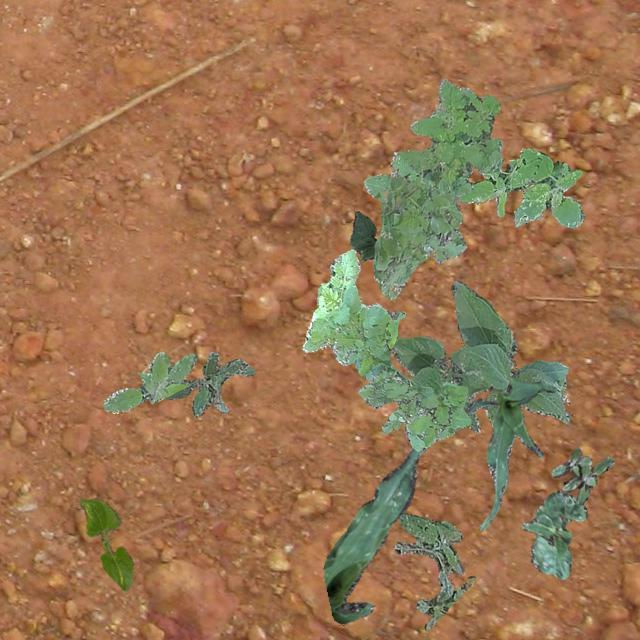crop: (390, 280, 570, 432), (322, 447, 422, 622), (464, 376, 556, 530), (522, 489, 586, 578), (78, 498, 132, 590), (348, 210, 376, 260)
weed: (302, 248, 469, 451), (364, 78, 502, 298), (458, 148, 584, 226), (392, 512, 473, 630), (101, 350, 196, 412), (164, 351, 254, 416), (550, 446, 612, 504)
